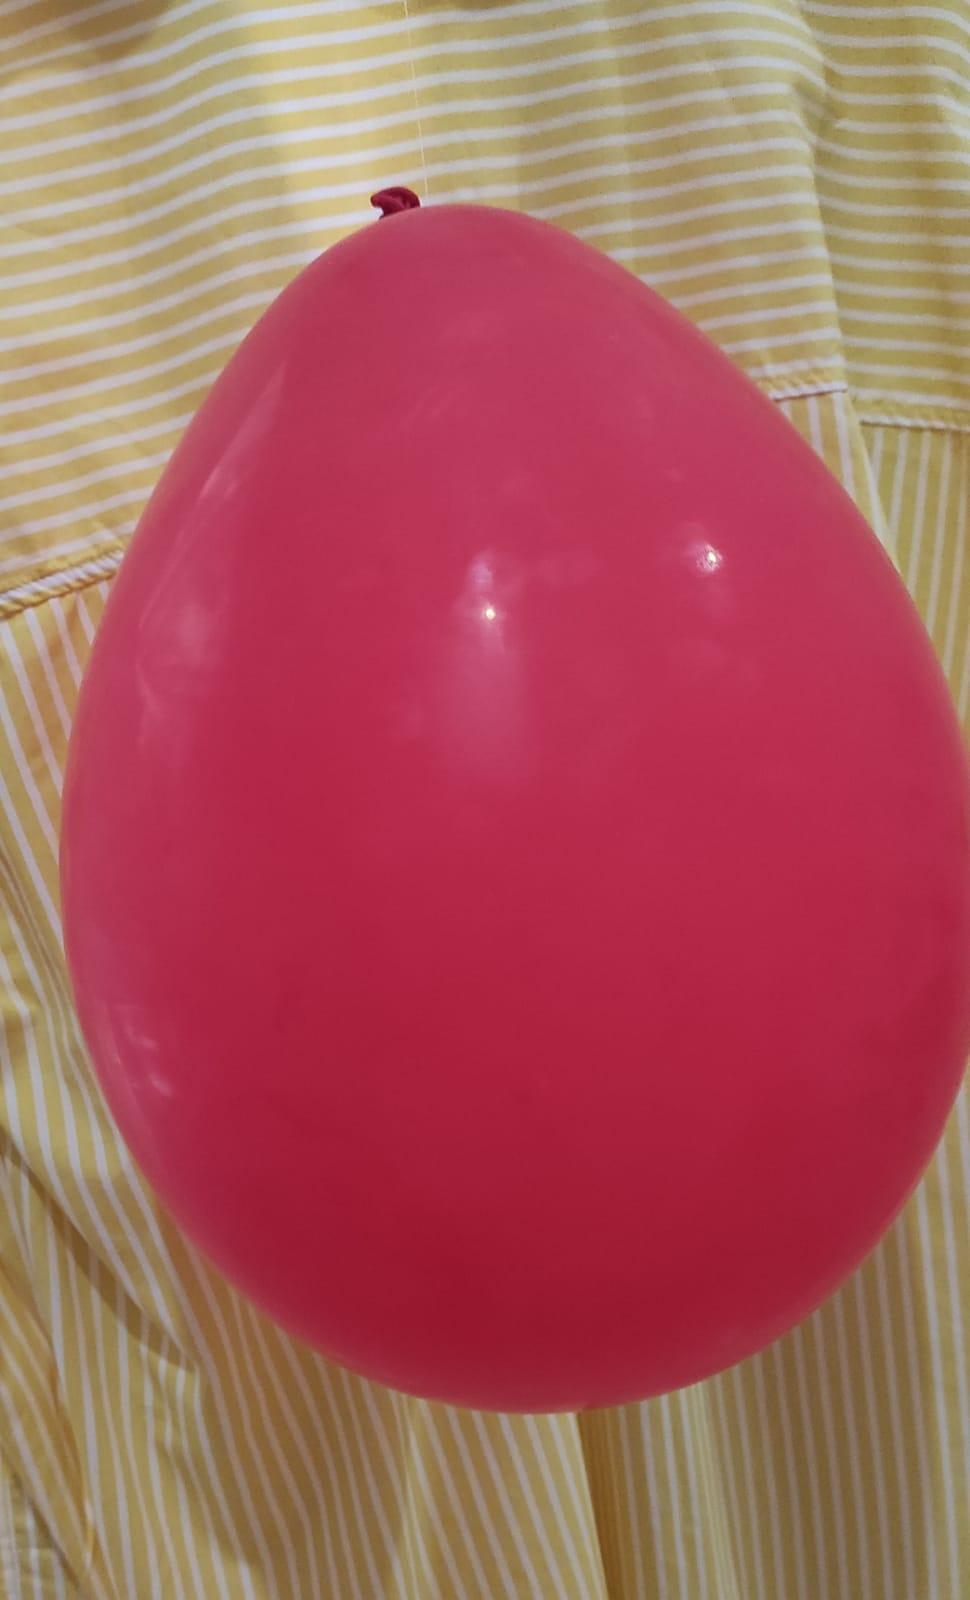red: (57, 177, 970, 1425)
